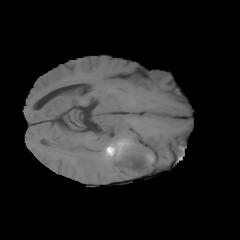glioma: (73, 134, 157, 180)
